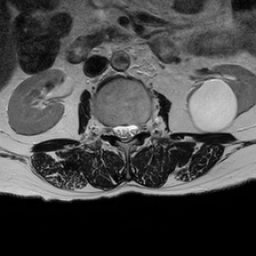CCS_normal: (121, 114, 129, 150)
LFS_normal: (138, 113, 147, 141)
LLS_normal: (129, 114, 138, 142)
RFS_normal: (105, 116, 113, 142)
RLS_normal: (113, 116, 121, 145)
